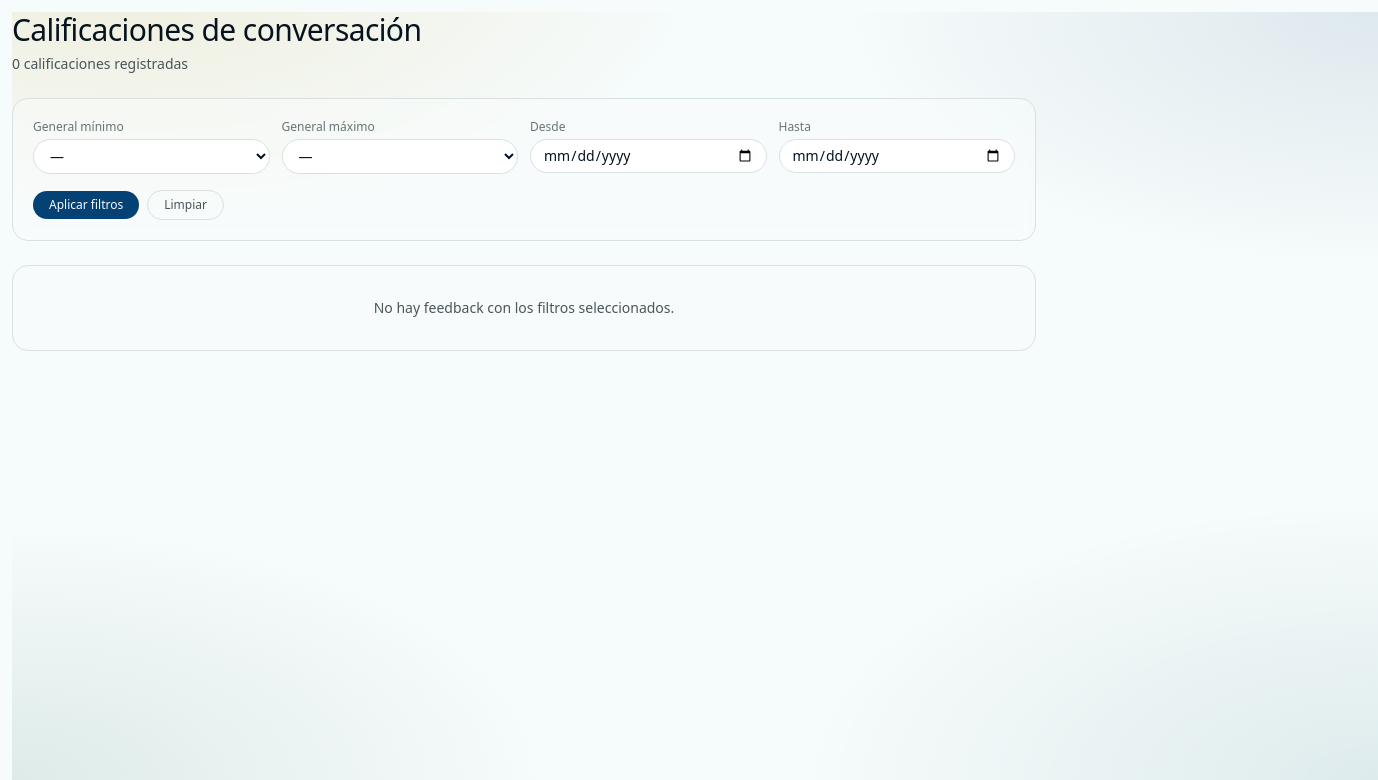
FeedbackPage — filtros administrativos (A3) › bloquea 'Aplicar filtros' y muestra un error si el mínimo es mayor que el máximo
The image size is (1378, 780).
Select "5 ★" in the dropdown labelled "General mínimo" at (151, 156), box [33,139,270,174]
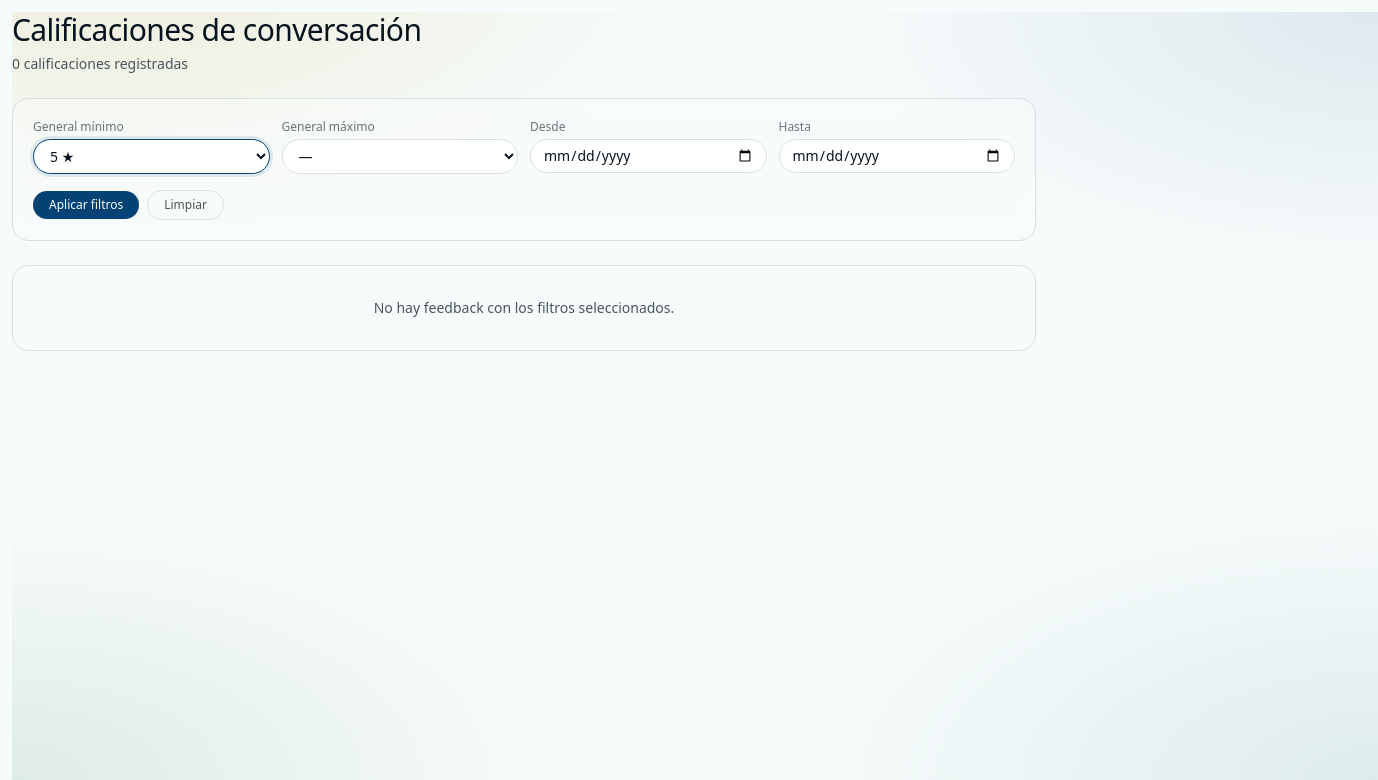
Select "2 ★" in the dropdown labelled "General máximo" at (400, 156), box [282,139,518,174]
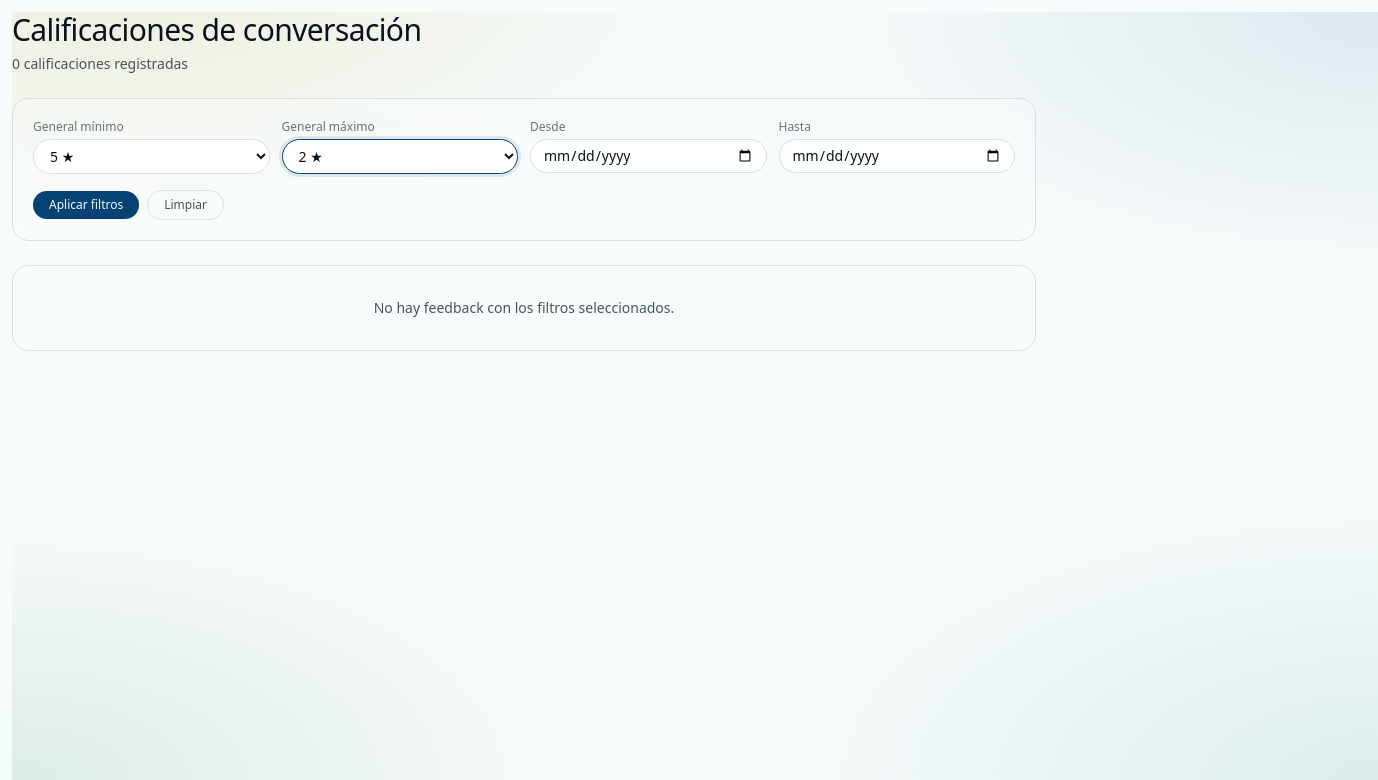
Click the button "Aplicar filtros" at (86, 205), box [33,191,139,219]
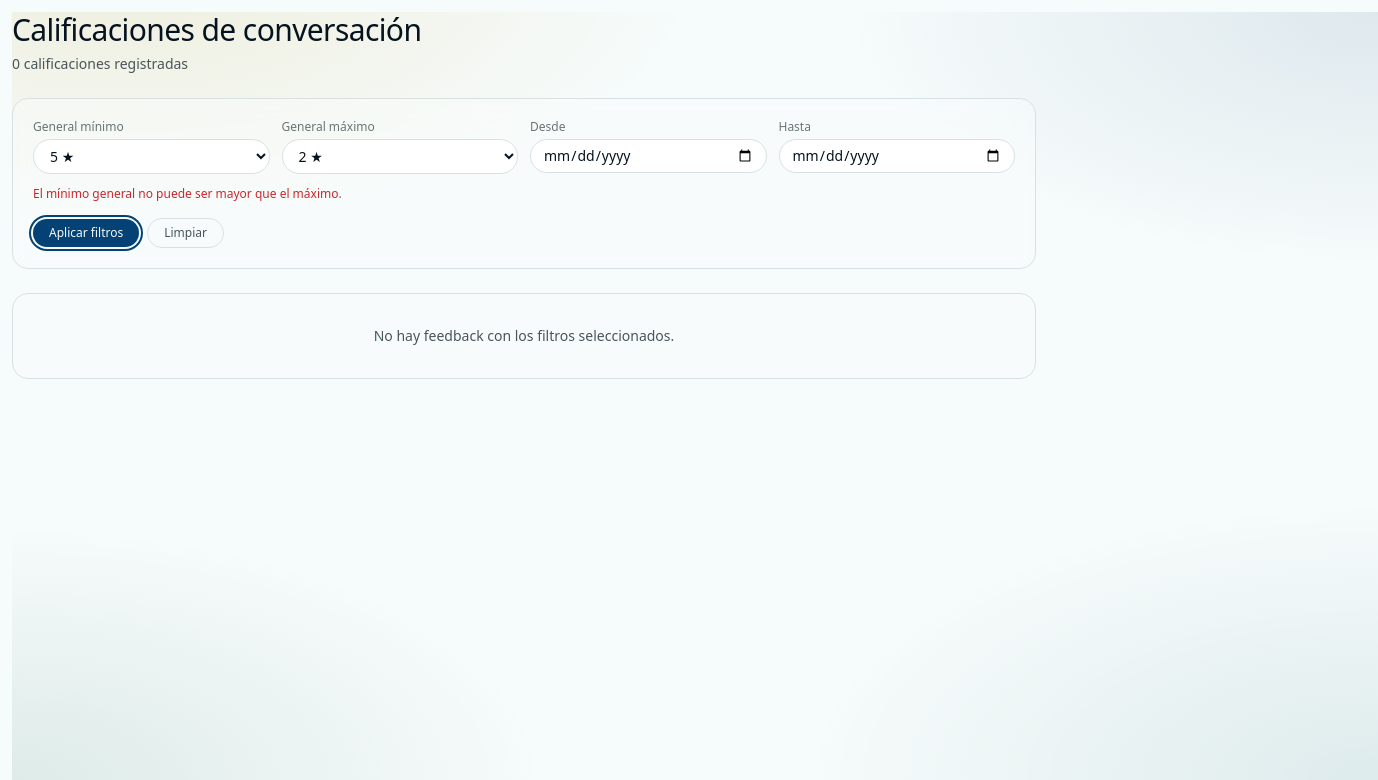
Check: the message shows "no puede ser mayor que el máximo", box [33,185,342,202]
